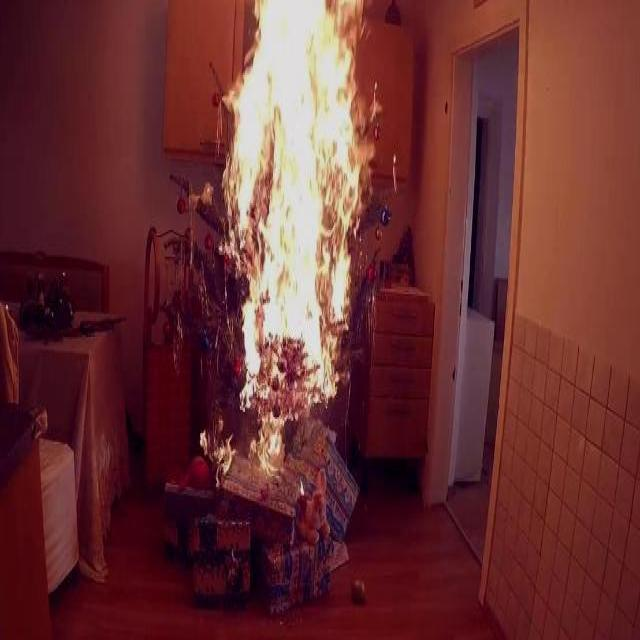Fire_Dangerous: (221, 1, 373, 463)
